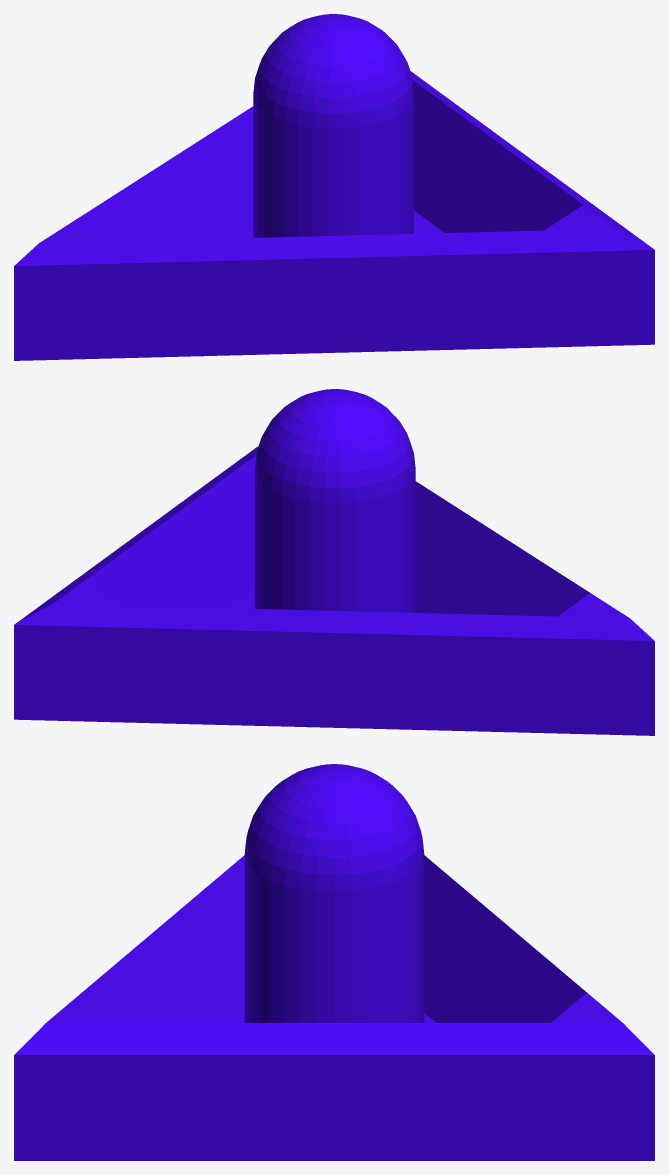
File: paddleTriangle.obj
The picture shows the model from 3 angles, top to bottom: view 1: azimuth 30°, elevation 25°; view 2: azimuth 150°, elevation 25°; view 3: azimuth 270°, elevation 25°; orthographic projection. The views are drawn at different scales.
Parts seen in each view (by area): view 1: Mesh.001_Cylinder.001; view 2: Mesh.001_Cylinder.001; view 3: Mesh.001_Cylinder.001.
Boxes of the visible parts, box(x1,y1,x2,y2) form: Mesh.001_Cylinder.001: box(14, 14, 654, 360); Mesh.001_Cylinder.001: box(14, 389, 654, 735); Mesh.001_Cylinder.001: box(14, 764, 654, 1160).
Size of the model in its own units: 2.8 by 1.41 by 2.8.
